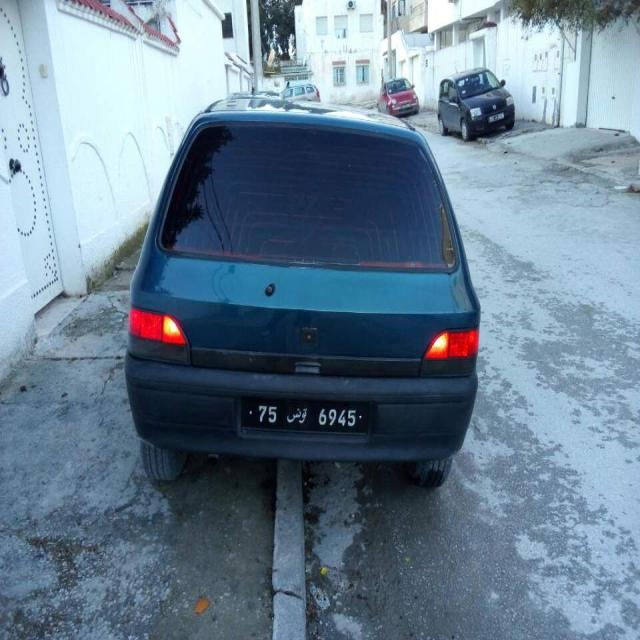LP: (238, 393, 368, 435)
